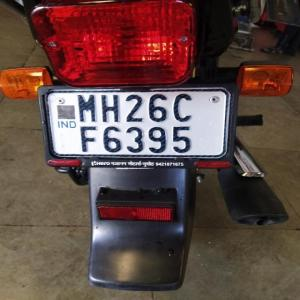Plate: (44, 89, 226, 158)
